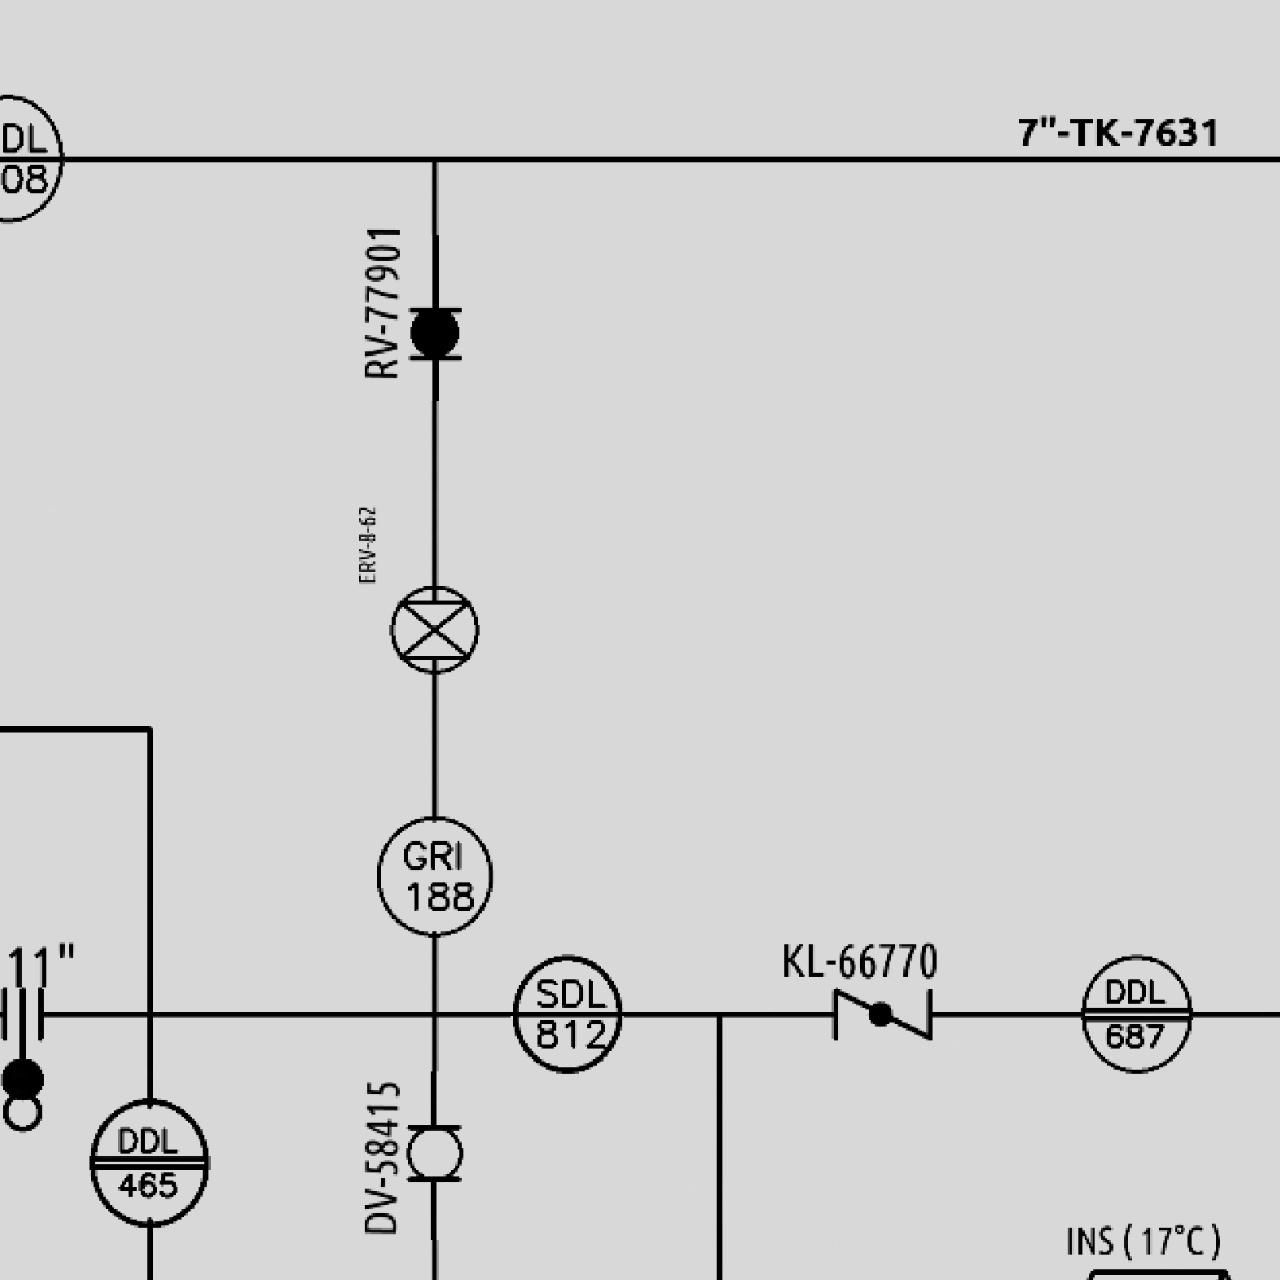Control-Panel: (80, 1094, 217, 1231), (1073, 949, 1199, 1077)
